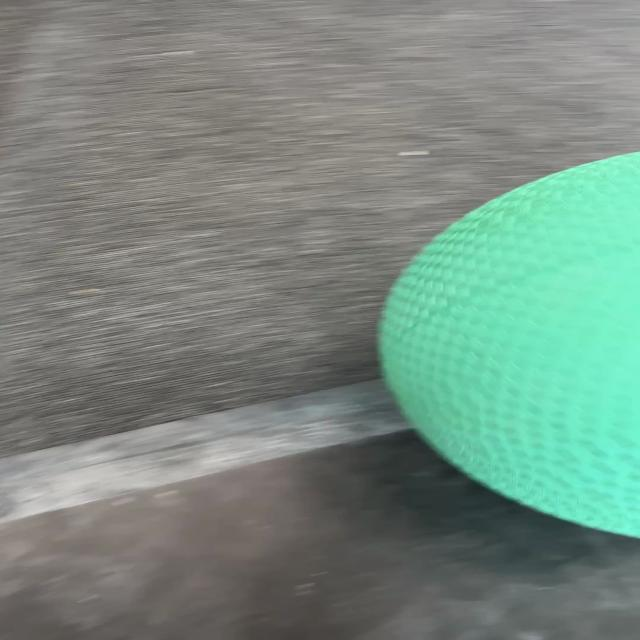Algae: (375, 150, 638, 539)
